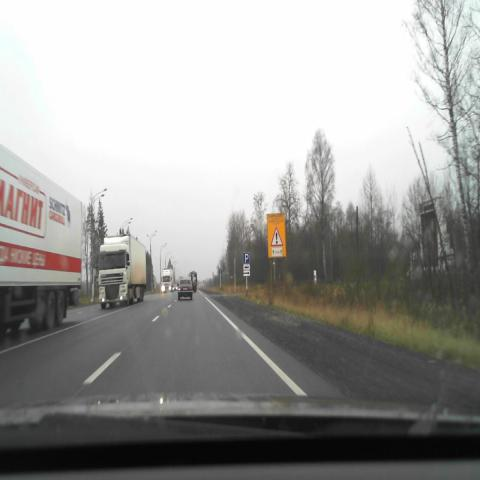1_33: (270, 226, 284, 247)
